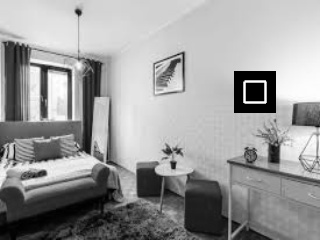square: (234, 71, 276, 113)
